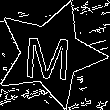M_N: (25, 27, 76, 81)
